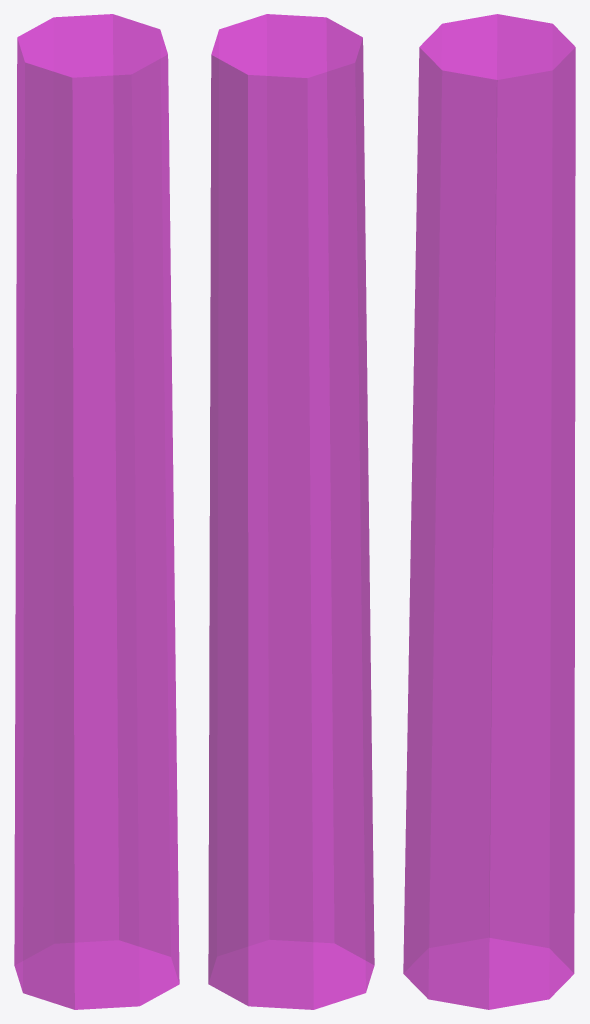
File: SM_Veh_Ship_L_Mast_Middle_01_Base_01_Collision.fbx
3 views of the same model, side by side, from view 1: azimuth 30°, elevation 25°; view 2: azimuth 150°, elevation 25°; view 3: azimuth 270°, elevation 25° (orthographic).
Parts seen in each view (by area): view 1: SM_Veh_Ship_L_Mast_Middle_01_Base_01_Collision; view 2: SM_Veh_Ship_L_Mast_Middle_01_Base_01_Collision; view 3: SM_Veh_Ship_L_Mast_Middle_01_Base_01_Collision.
Part boxes in pixels (x1=…): SM_Veh_Ship_L_Mast_Middle_01_Base_01_Collision: x1=14, y1=14, x2=179, y2=1009; SM_Veh_Ship_L_Mast_Middle_01_Base_01_Collision: x1=208, y1=14, x2=374, y2=1009; SM_Veh_Ship_L_Mast_Middle_01_Base_01_Collision: x1=403, y1=14, x2=575, y2=1009.
Bounding box in the file's own units: 100 × 598 × 101.
